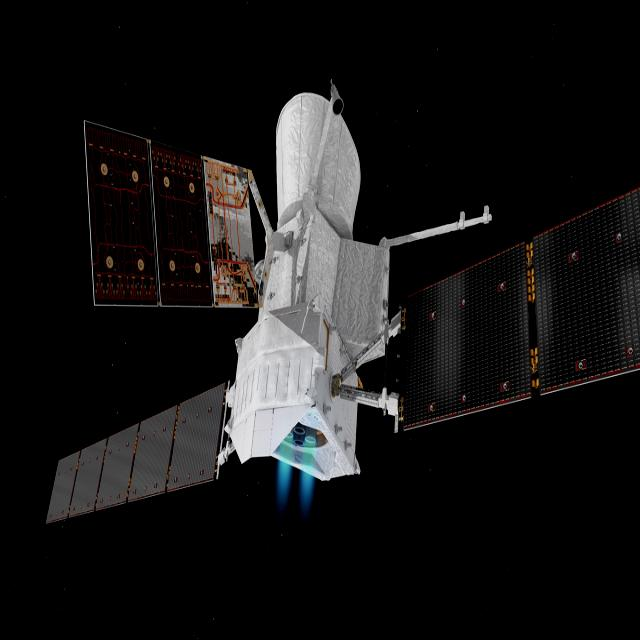satellite: (41, 77, 640, 536)
